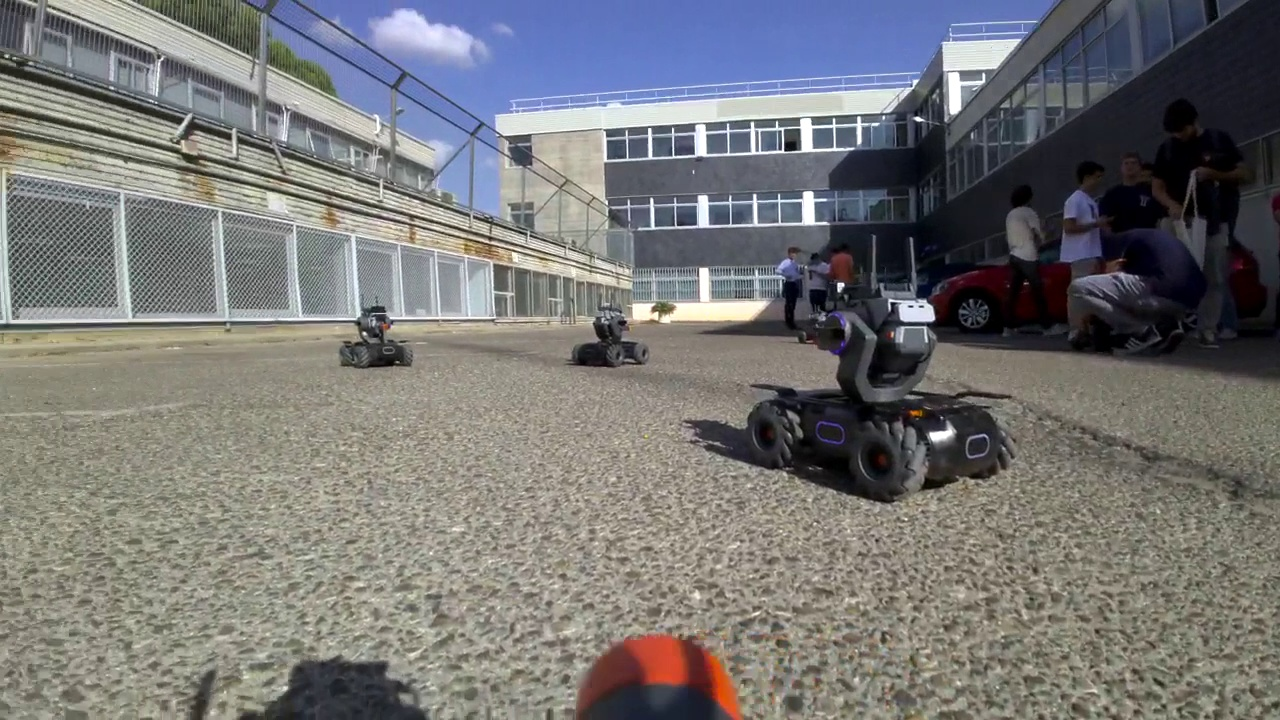robot: (742, 227, 1022, 494), (336, 294, 416, 371), (569, 297, 648, 371), (796, 304, 829, 348)
